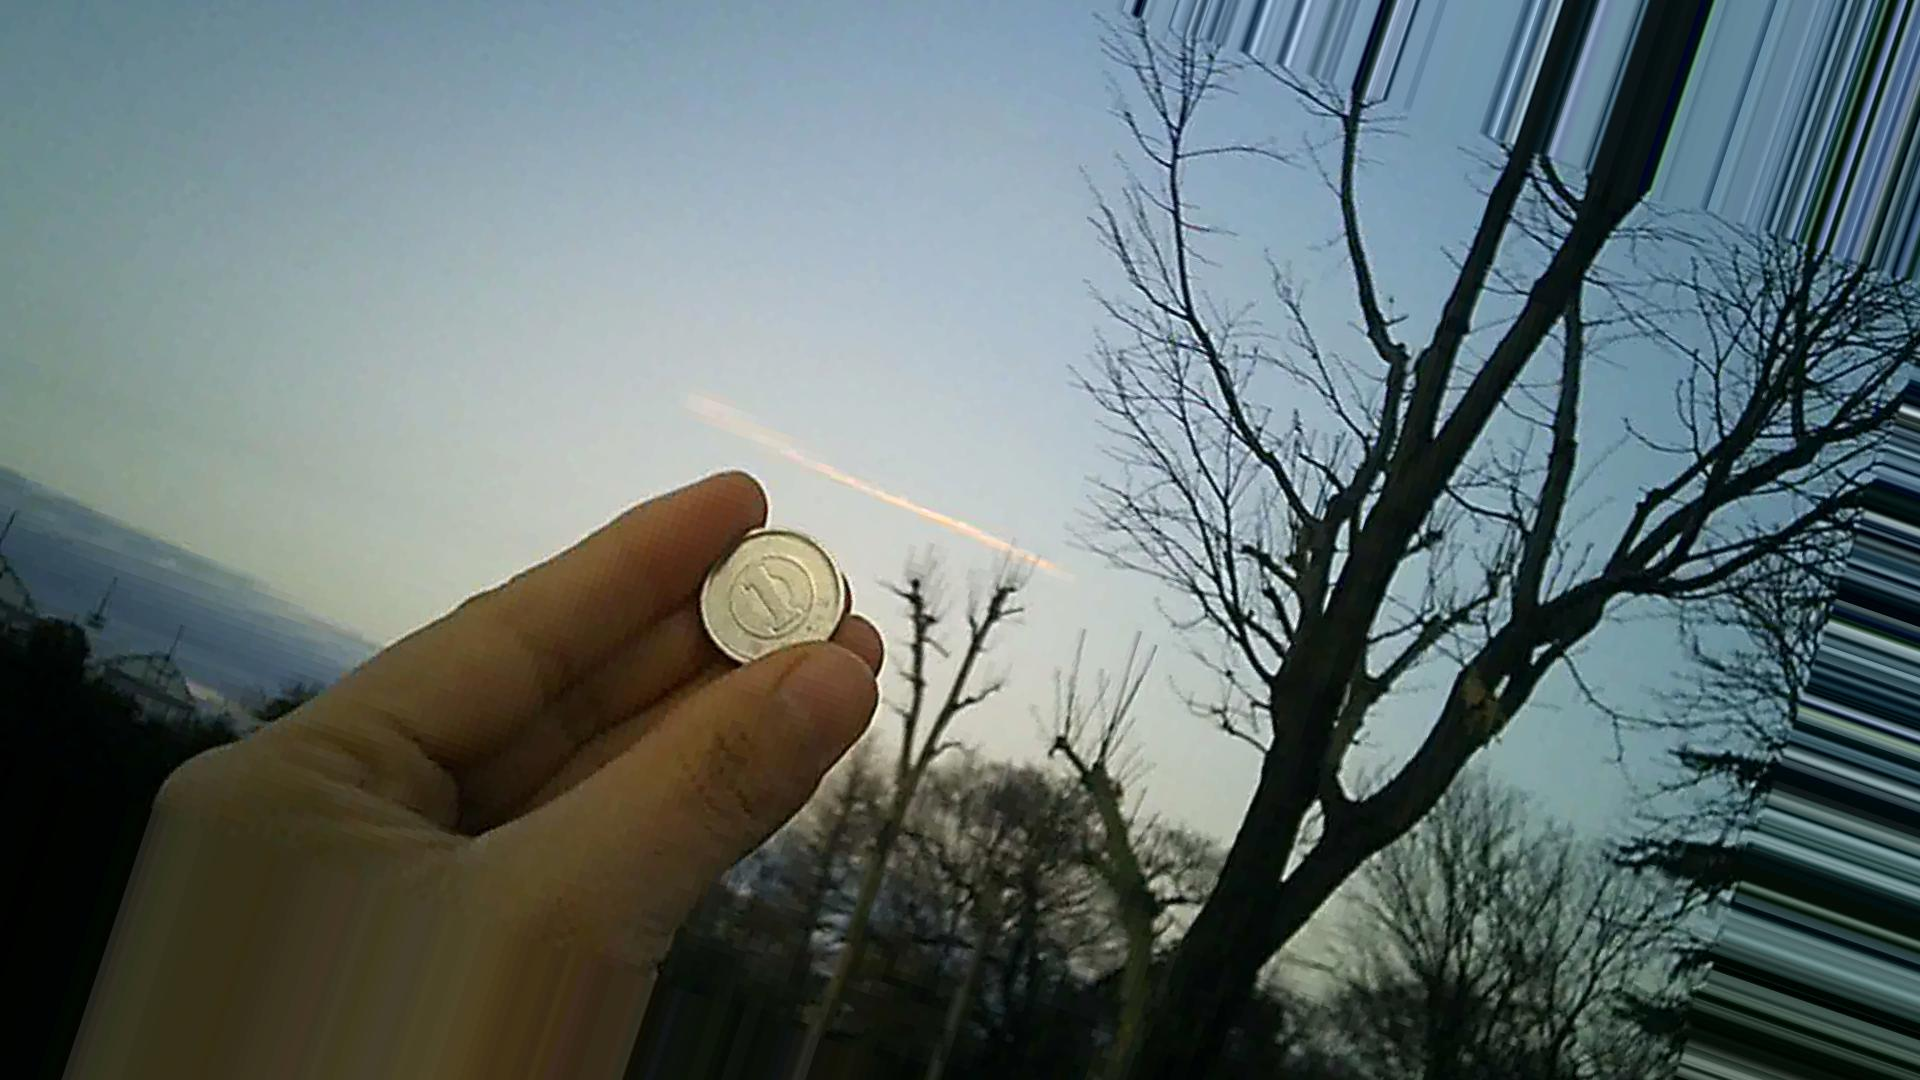1 Yen: (702, 535, 870, 684)
